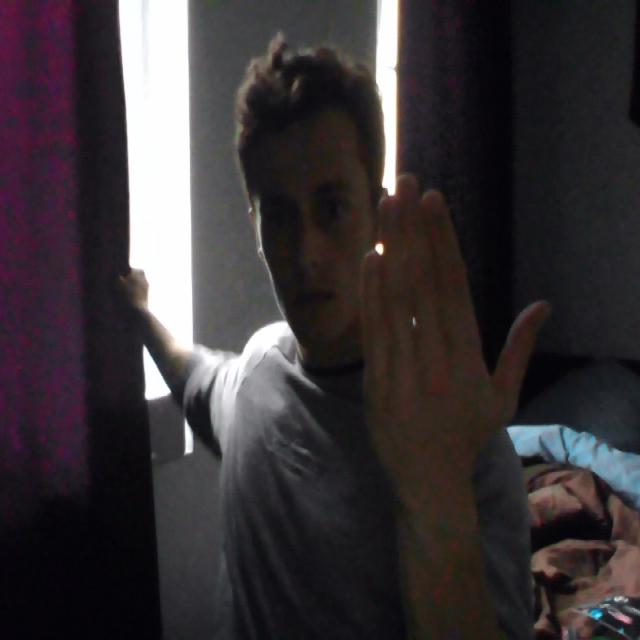forward: (327, 168, 566, 508)
